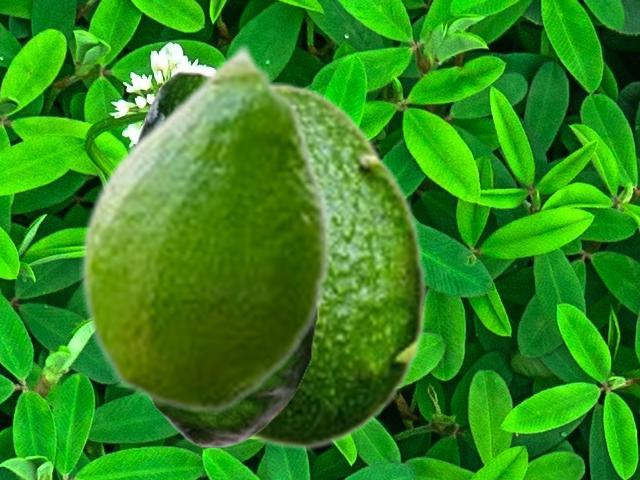avocado: (79, 41, 331, 413), (135, 70, 317, 447), (244, 82, 427, 449)
